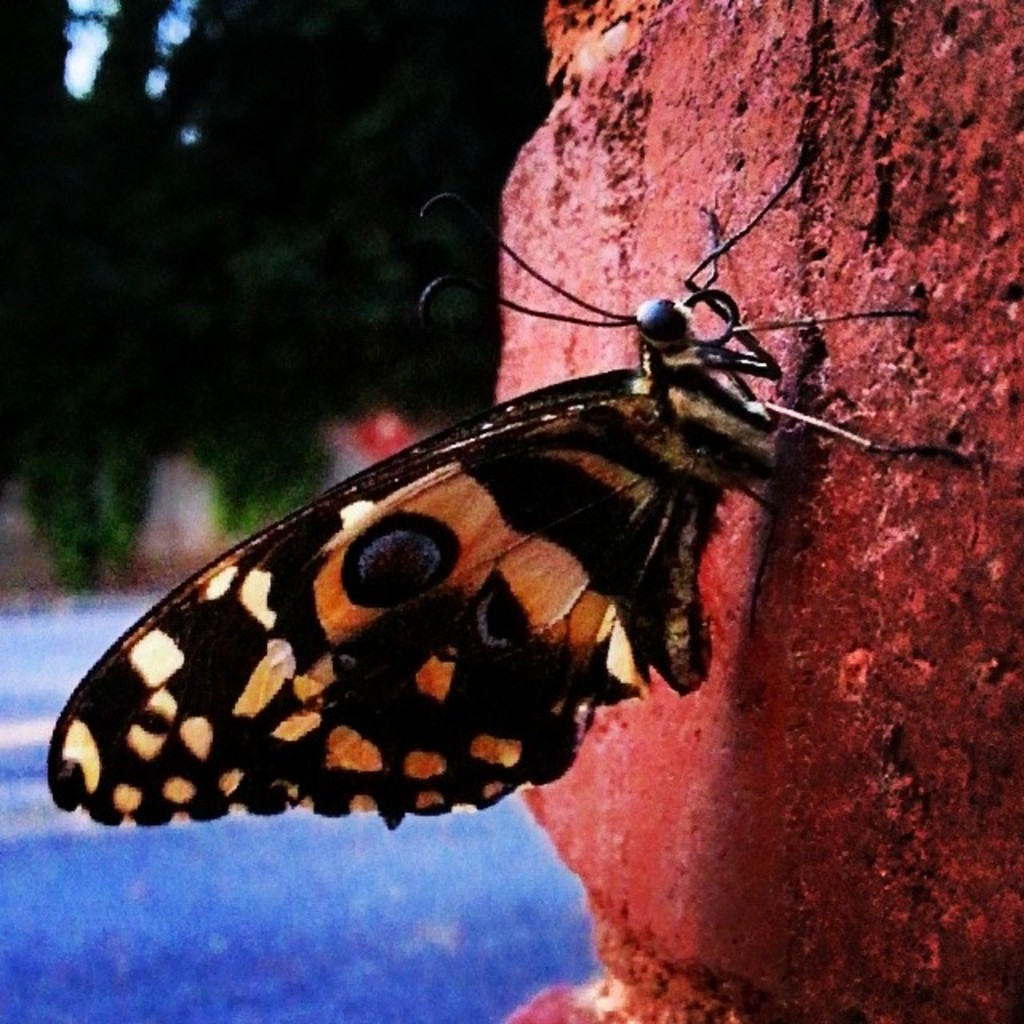Butterfly: (40, 223, 800, 834)
